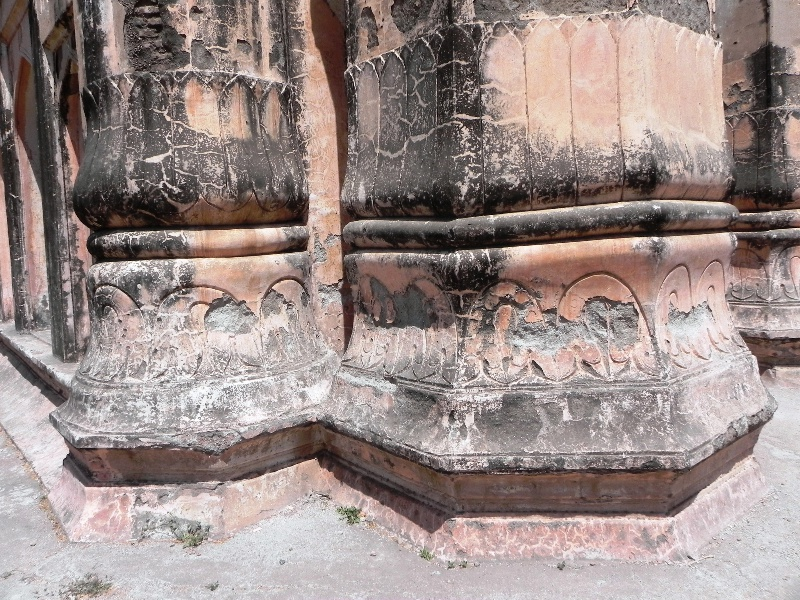Spalling: (498, 298, 649, 357), (195, 295, 259, 335)
